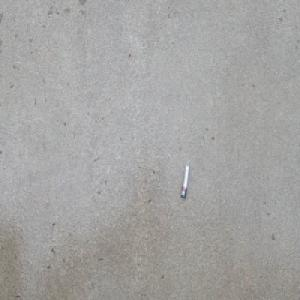Battery: (180, 163, 189, 197)
